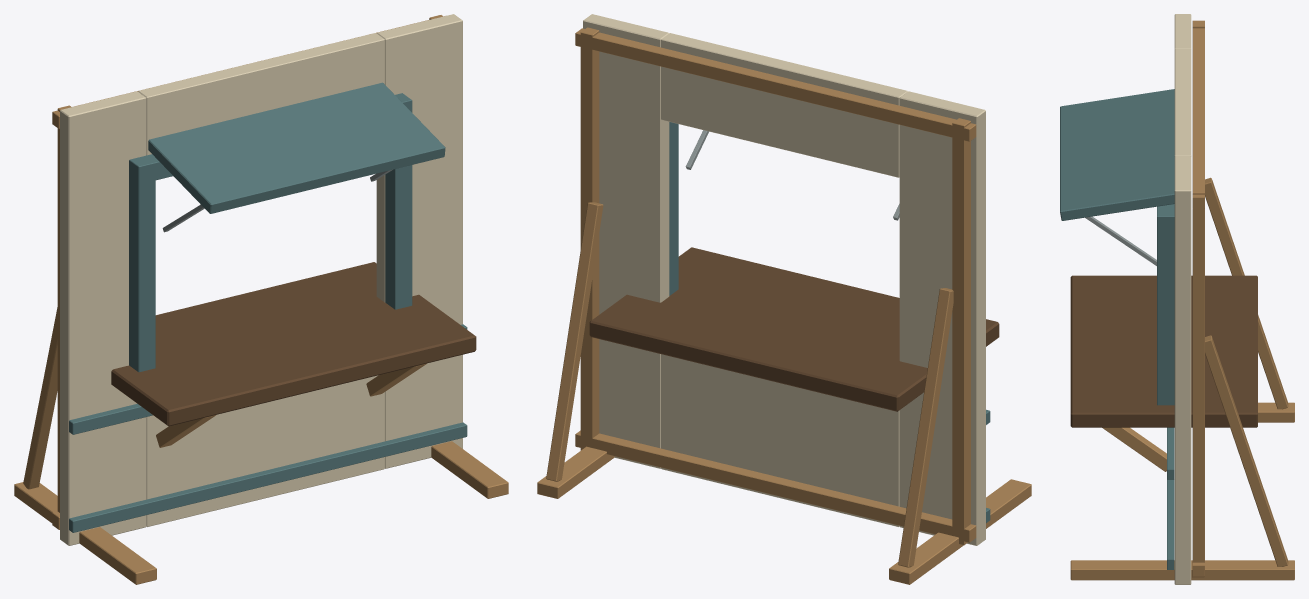
The model's file is S009_serving_hatch_rebuilt.glb.
The picture shows the model from 3 angles, left to right: view 1: azimuth 30°, elevation 25°; view 2: azimuth 150°, elevation 25°; view 3: azimuth 270°, elevation 25°; orthographic projection. The views are drawn at different scales.
Visible parts, largest first — view 1: Warm_matte_scenic_paint, Muted_teal_scenic_paint, Dark_stained_structural_timber, Scenic_framing_warm_bare_timber; view 2: Warm_matte_scenic_paint, Scenic_framing_warm_bare_timber, Dark_stained_structural_timber, Muted_teal_scenic_paint; view 3: Dark_stained_structural_timber, Scenic_framing_warm_bare_timber, Muted_teal_scenic_paint, Warm_matte_scenic_paint, Bare_brushed_hardware.
Boxes of the visible parts, box(x1,y1,x2,y2) form: Warm_matte_scenic_paint: box(60, 14, 462, 545); Muted_teal_scenic_paint: box(69, 82, 467, 532); Dark_stained_structural_timber: box(111, 262, 476, 426); Scenic_framing_warm_bare_timber: box(14, 15, 508, 584); Warm_matte_scenic_paint: box(583, 14, 985, 545); Scenic_framing_warm_bare_timber: box(537, 27, 1031, 584); Dark_stained_structural_timber: box(589, 247, 999, 411); Muted_teal_scenic_paint: box(669, 122, 990, 522); Dark_stained_structural_timber: box(1070, 275, 1257, 427); Scenic_framing_warm_bare_timber: box(1070, 20, 1294, 580); Muted_teal_scenic_paint: box(1060, 89, 1174, 569); Warm_matte_scenic_paint: box(1174, 14, 1191, 584); Bare_brushed_hardware: box(1085, 216, 1156, 265).
Bounding box in the file's own units: 2.4 × 2.5 × 1.35.
